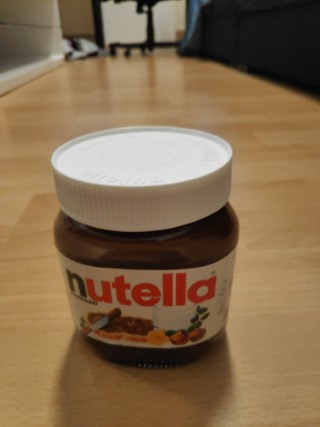nutella: (49, 124, 242, 370)
